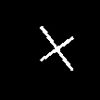single_crochet: (40, 26, 73, 70)
